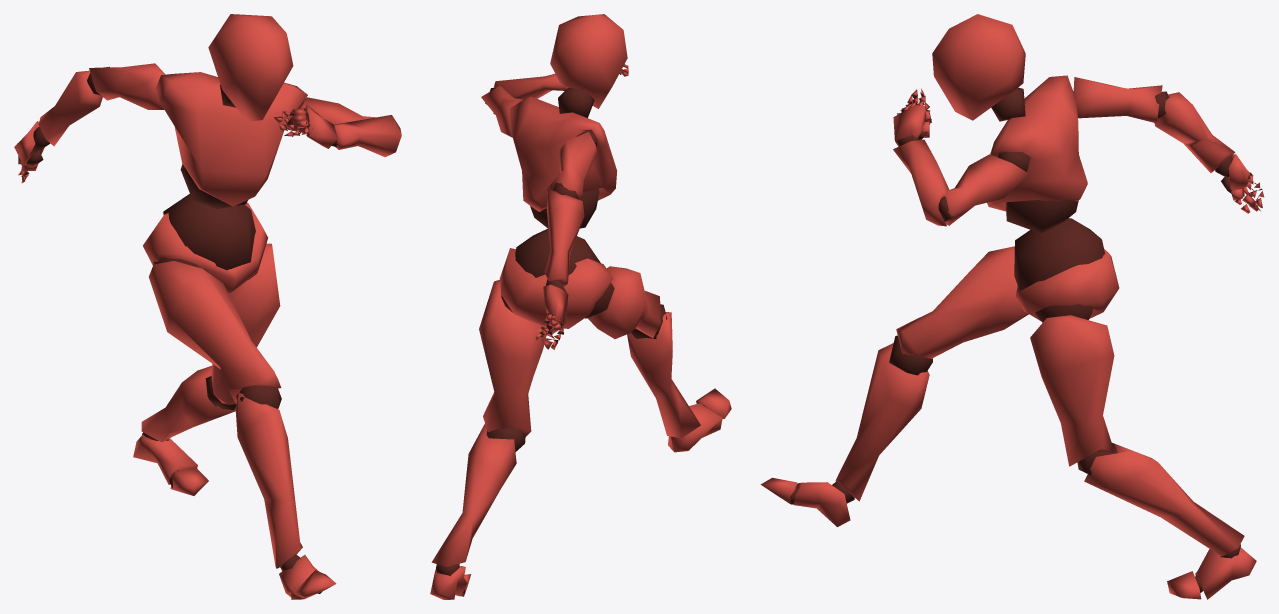
The picture shows the model from 3 angles, left to right: view 1: azimuth 30°, elevation 25°; view 2: azimuth 150°, elevation 25°; view 3: azimuth 270°, elevation 25°; orthographic projection. The views are drawn at different scales.
Visible parts, largest first — view 1: Beta_Surface; view 2: Beta_Surface; view 3: Beta_Surface.
Part boxes in pixels (bbox=[...]): Beta_Surface: bbox=[14, 14, 401, 599]; Beta_Surface: bbox=[430, 14, 731, 599]; Beta_Surface: bbox=[760, 14, 1264, 599].
Size of the model in its own units: 6.17 by 14.12 by 11.52.
